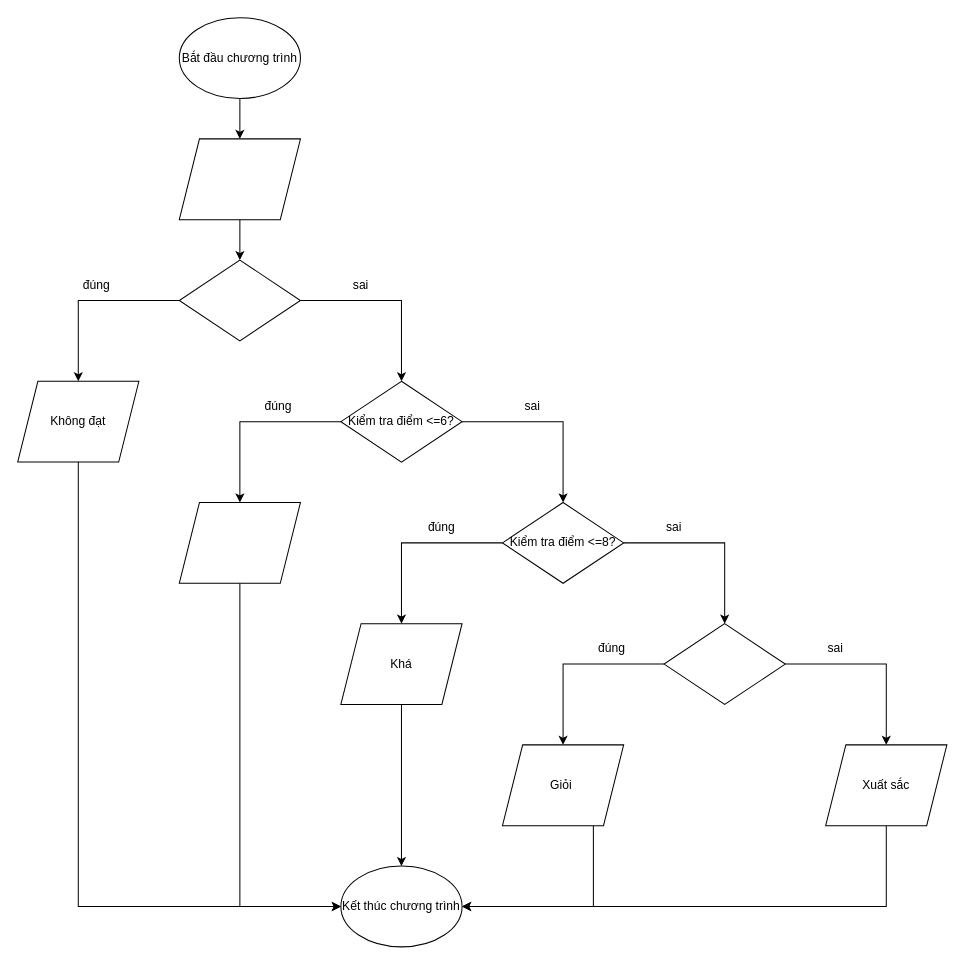
This 965x965 diagram has some shape labels left out. Here are the shapes that lost their labels. From the top down, the centre of each, then its label:
[239,179]: Nhập số điểm
[239,300]: Kiểm tra điểm <4?
[239,542]: Trung bình
[724,663]: Kiểm tra điểm <=9?
